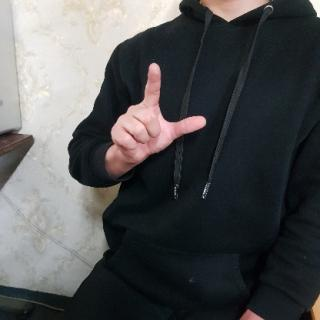LAAM: (107, 61, 214, 160)
